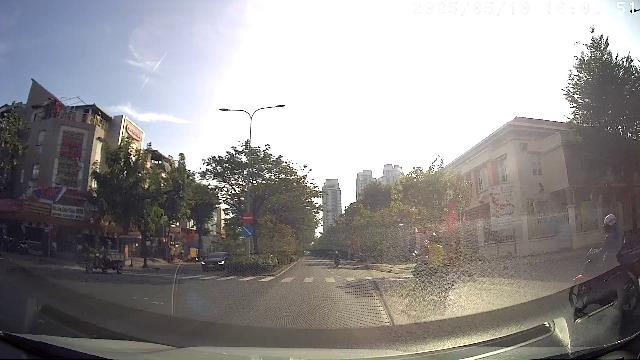102-cam-di-nguoc-chieu: (242, 212, 254, 224)
302a-huong-phai-di-vong-chuong-ngai-vat-1: (242, 225, 254, 237)
